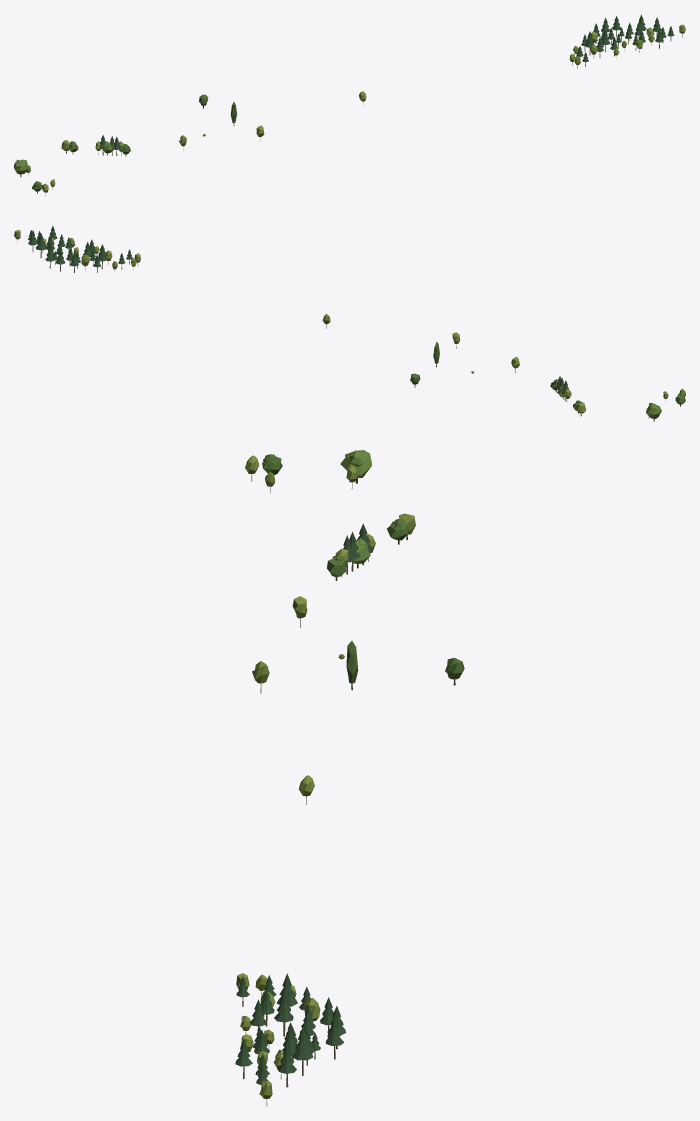
The model's file is Natura_3_4.fbx.
The picture shows the model from 3 angles, top to bottom: view 1: azimuth 30°, elevation 25°; view 2: azimuth 150°, elevation 25°; view 3: azimuth 270°, elevation 25°; orthographic projection. The views are drawn at different scales.
Size of the model in its own units: 466 by 17.02 by 71.1.
